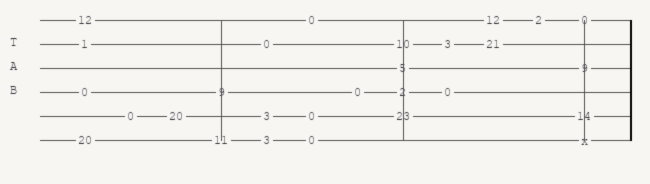0: (81, 86, 92, 98), (127, 110, 138, 122), (263, 38, 274, 50), (308, 134, 319, 146), (308, 14, 319, 26), (308, 110, 319, 122), (354, 86, 365, 98), (444, 86, 455, 98), (581, 14, 592, 26)
1: (81, 38, 92, 50)
10: (396, 38, 414, 50)
11: (214, 134, 232, 146)
12: (78, 14, 96, 26), (486, 14, 504, 26)
14: (577, 110, 595, 122)
2: (399, 86, 410, 98), (535, 14, 546, 26)
20: (78, 134, 96, 146), (169, 110, 187, 122)
21: (486, 38, 504, 50)
23: (396, 110, 414, 122)
3: (263, 110, 274, 122), (263, 134, 274, 146), (444, 38, 455, 50)
5: (399, 62, 410, 74)
9: (218, 86, 229, 98), (581, 62, 592, 74)
x: (581, 135, 592, 145)
